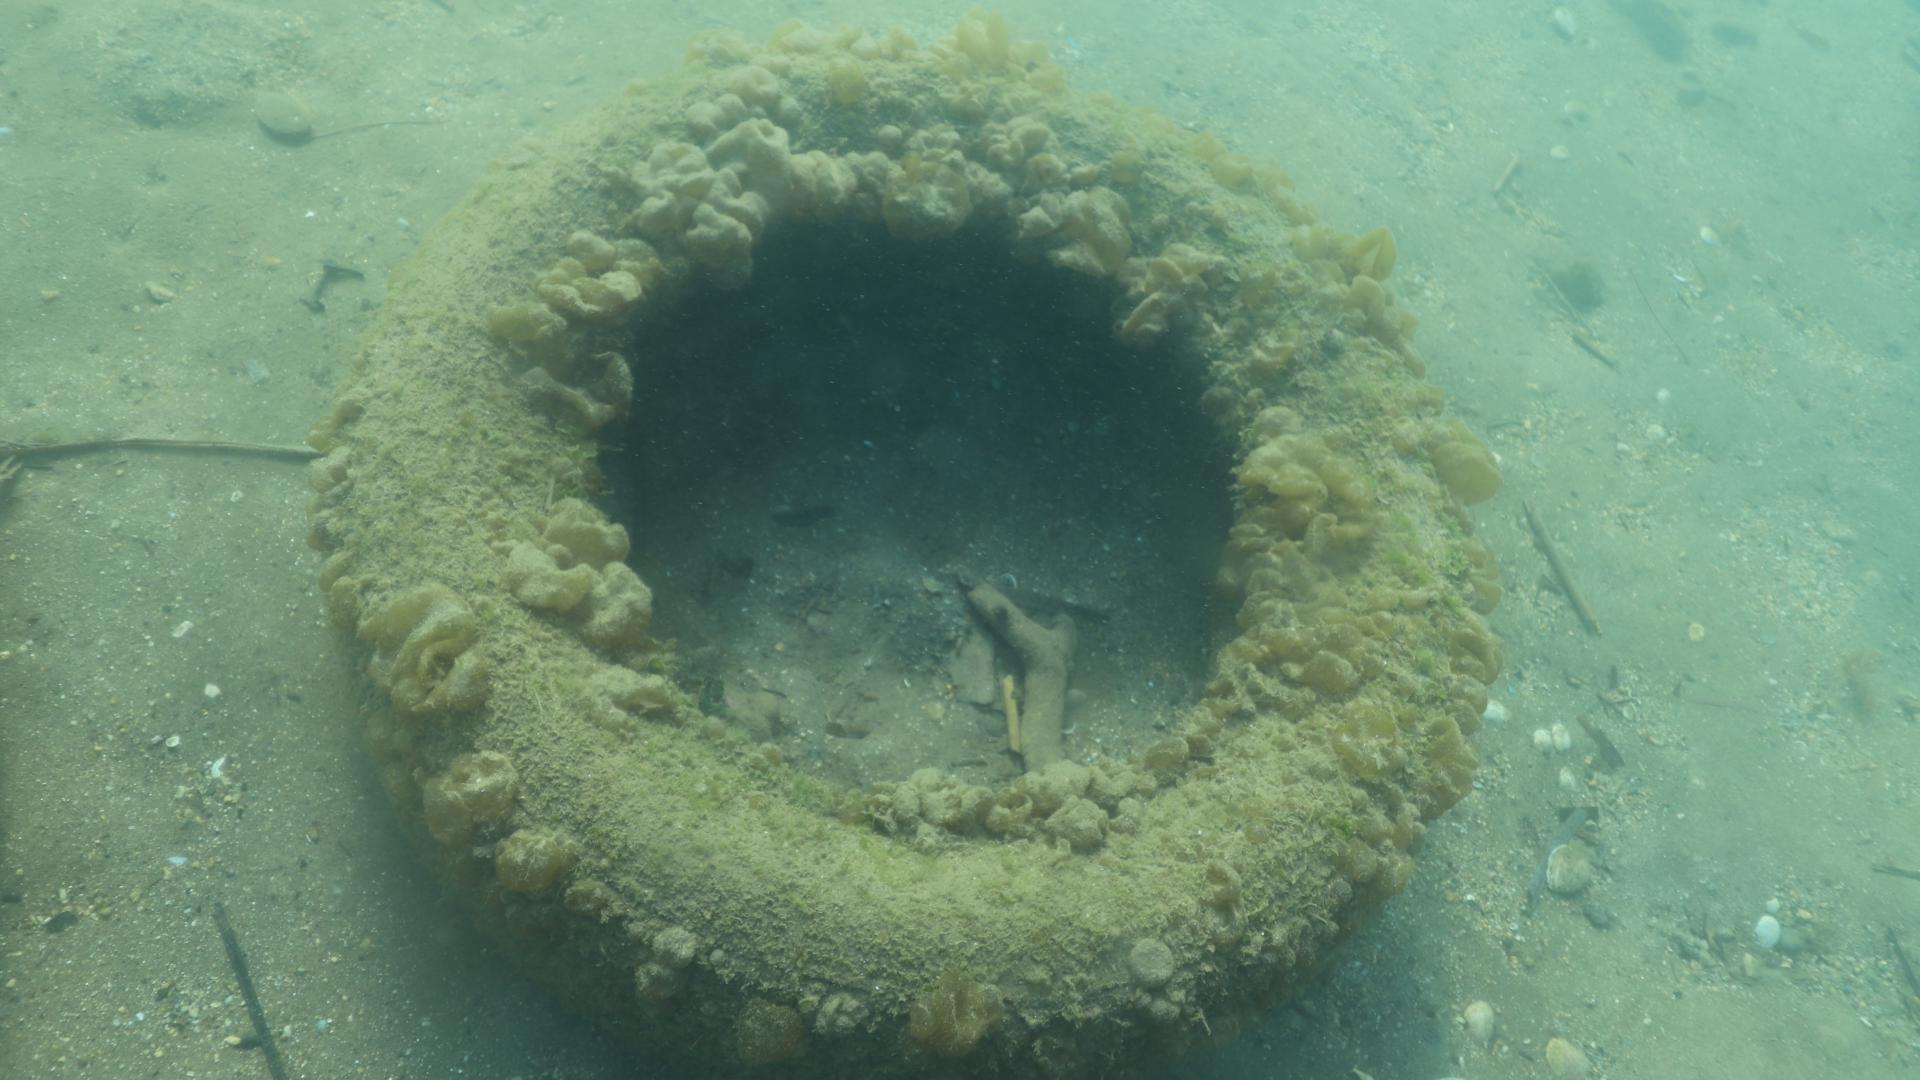tire: (328, 50, 1476, 1069)
